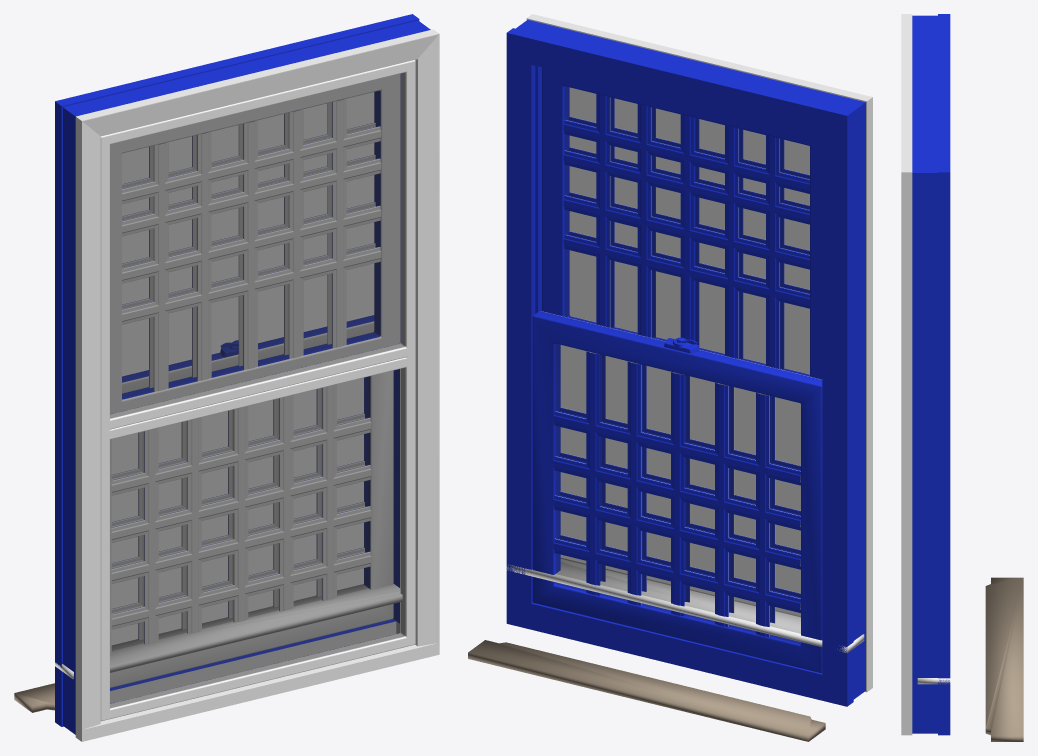
The model's file is Lifestyle1.glb.
3 renders of one model, left to right at view 1: azimuth 30°, elevation 25°; view 2: azimuth 150°, elevation 25°; view 3: azimuth 270°, elevation 25°, orthographic. The views are drawn at different scales.
Parts seen in each view (by area): view 1: frame3_full_glass, frame3_half_up_glass, frame3_half_down_glass, window1, frame1, frame2, frame3_full, frame3_half_down, frame3_half_up, contour4_up_out, contour4_down_out, White (+15 smaller); view 2: window1, frame2_glass, frame1_glass, frame2, frame3_half_up_glass, frame3_full_glass, frame1, contour4_down, contour4_up, Fossil, contour2_down, contour2_up (+13 smaller); view 3: window1, Fossil.
Boxes of the visible parts, <box> form: frame3_full_glass: <box>110,73,404,707</box>; frame3_half_up_glass: <box>110,73,404,418</box>; frame3_half_down_glass: <box>110,368,404,707</box>; window1: <box>55,14,439,741</box>; frame1: <box>110,74,400,414</box>; frame2: <box>110,315,393,687</box>; frame3_full: <box>100,61,415,721</box>; frame3_half_down: <box>101,357,415,720</box>; frame3_half_up: <box>100,60,415,430</box>; contour4_up_out: <box>122,99,381,391</box>; contour4_down_out: <box>111,384,371,644</box>; White: <box>55,584,402,678</box>; window1: <box>506,14,872,706</box>; frame2_glass: <box>556,344,800,643</box>; frame1_glass: <box>565,86,809,376</box>; frame2: <box>532,311,822,673</box>; frame3_half_up_glass: <box>570,88,809,373</box>; frame3_full_glass: <box>561,345,800,616</box>; frame1: <box>542,67,822,379</box>; contour4_down: <box>553,351,800,637</box>; contour4_up: <box>563,94,809,369</box>; Fossil: <box>468,640,825,741</box>; contour2_down: <box>553,411,800,569</box>; contour2_up: <box>563,150,809,308</box>; window1: <box>901,14,950,735</box>; Fossil: <box>985,577,1023,741</box>.
Bounding box in the file's own units: 0.5315 × 0.8917 × 0.1738.
